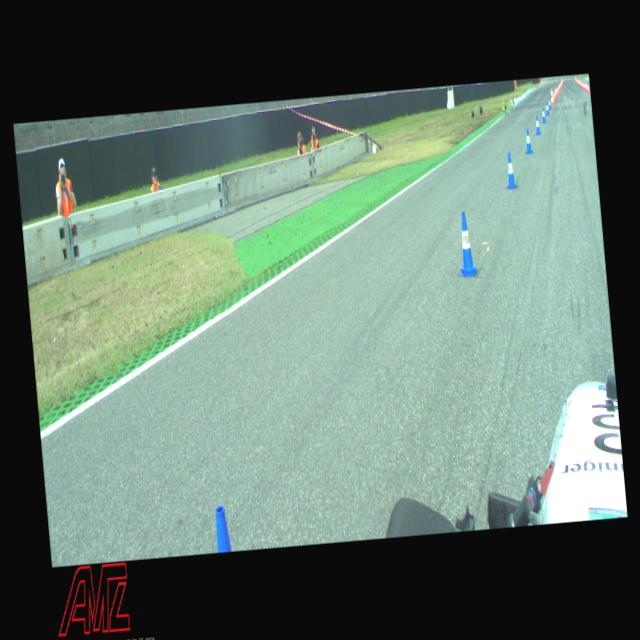blue_cone: (454, 210, 478, 276), (213, 504, 231, 552), (504, 152, 516, 188), (524, 128, 532, 153), (534, 114, 540, 134), (540, 107, 546, 123), (545, 102, 549, 115), (548, 98, 551, 109)
large_orange_cone: (550, 87, 554, 105)
orange_cone: (552, 92, 556, 100), (587, 84, 590, 93)
yellow_cone: (502, 99, 504, 109)
